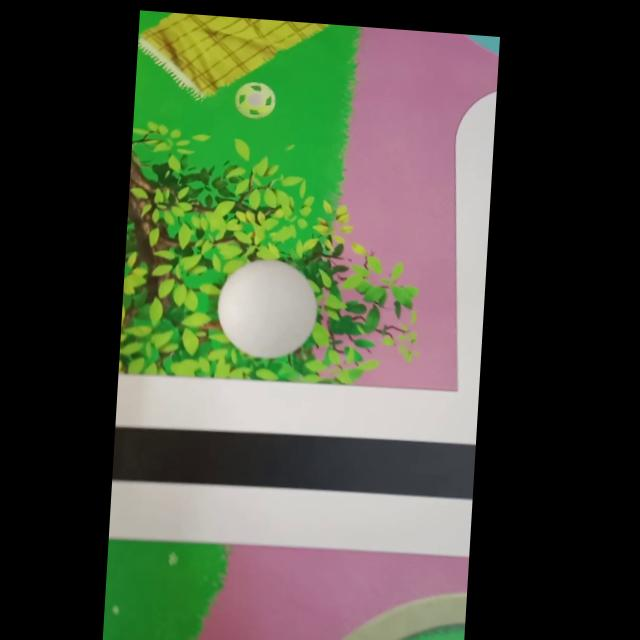white ball: (213, 255, 320, 363)
